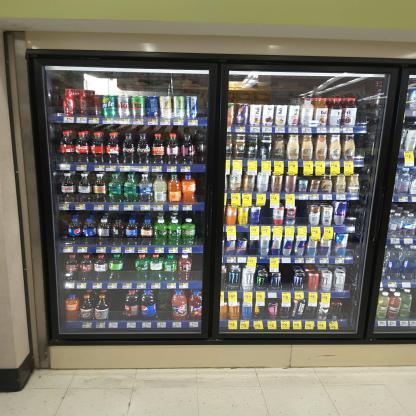Void: (106, 293, 121, 320), (193, 257, 209, 282), (355, 134, 370, 154), (195, 96, 206, 120), (125, 254, 134, 281), (161, 293, 170, 318), (260, 203, 270, 223), (283, 267, 292, 287), (300, 207, 308, 222), (200, 217, 202, 239)
